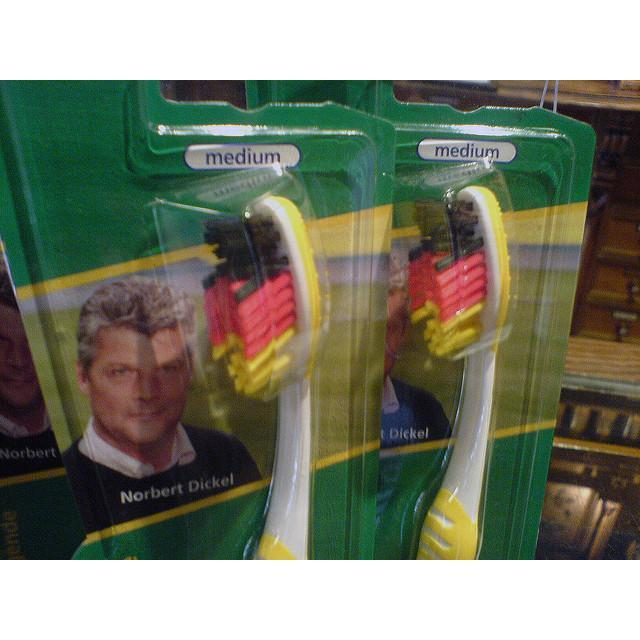toothbrush: (202, 193, 324, 554), (406, 185, 512, 560)
